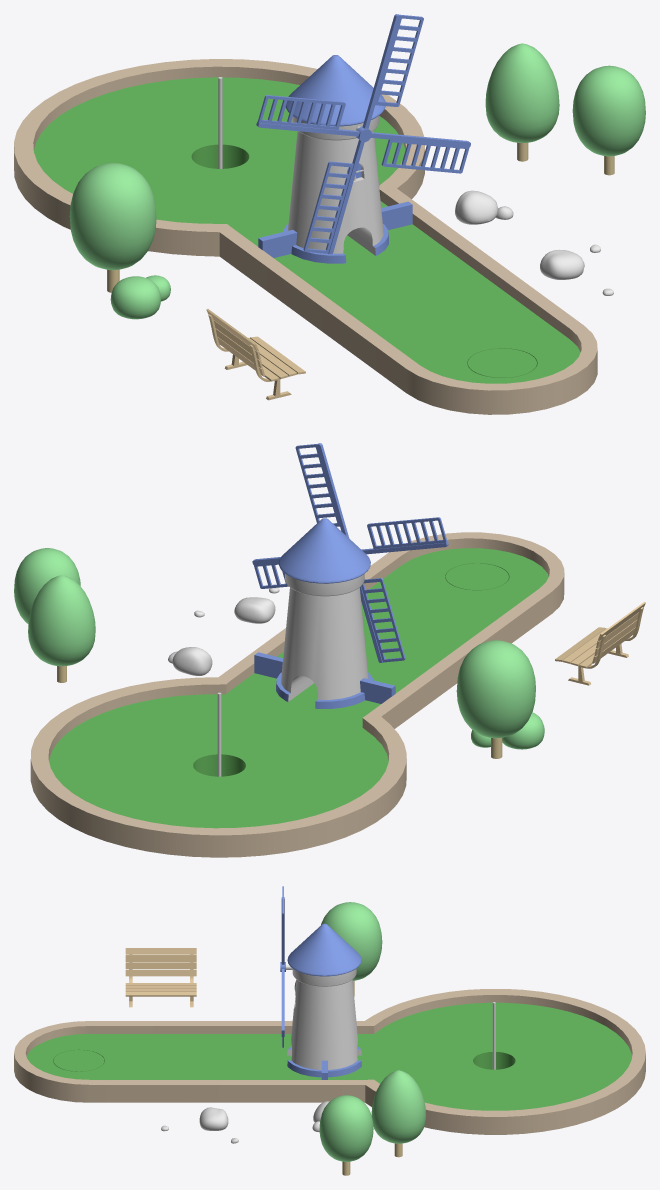
Rendered from Windmill06.glb.
3 renders of one model, top to bottom at view 1: azimuth 30°, elevation 25°; view 2: azimuth 150°, elevation 25°; view 3: azimuth 270°, elevation 25°, orthographic. The views are drawn at different scales.
Parts seen in each view (by area): view 1: Goal, Start, Tree, Windmill, Fan, Bench, Rock, Bush, Flip, Wall; view 2: Goal, Start, Tree, Windmill, Fan, Bench, Rock, Flip, Wall, Bush; view 3: Goal, Start, Windmill, Tree, Bench, Rock, Flip, Fan.
Boxes of the visible parts, x1,y1,x2,y2 form: Goal: (14, 59, 424, 256); Start: (219, 189, 597, 414); Tree: (69, 43, 645, 292); Windmill: (283, 55, 388, 263); Fan: (256, 14, 470, 254); Bench: (206, 309, 305, 400); Rock: (455, 190, 613, 295); Bush: (110, 275, 170, 319); Flip: (468, 348, 536, 377); Wall: (258, 201, 412, 257); Goal: (30, 677, 406, 857); Start: (219, 532, 564, 728); Tree: (14, 548, 535, 758); Windmill: (276, 518, 372, 708); Fan: (252, 443, 448, 662); Bench: (555, 602, 645, 685); Rock: (168, 587, 279, 675); Flip: (445, 563, 508, 590); Wall: (254, 652, 395, 703); Bush: (471, 712, 544, 749); Goal: (364, 989, 645, 1134); Start: (14, 1021, 368, 1102); Windmill: (287, 923, 361, 1077); Tree: (319, 902, 426, 1175); Bench: (125, 948, 196, 1007); Rock: (161, 1101, 329, 1143); Flip: (53, 1050, 104, 1071); Fan: (280, 886, 285, 1047).
Bounding box in the file's own units: 5.56 × 2.56 × 7.34.
